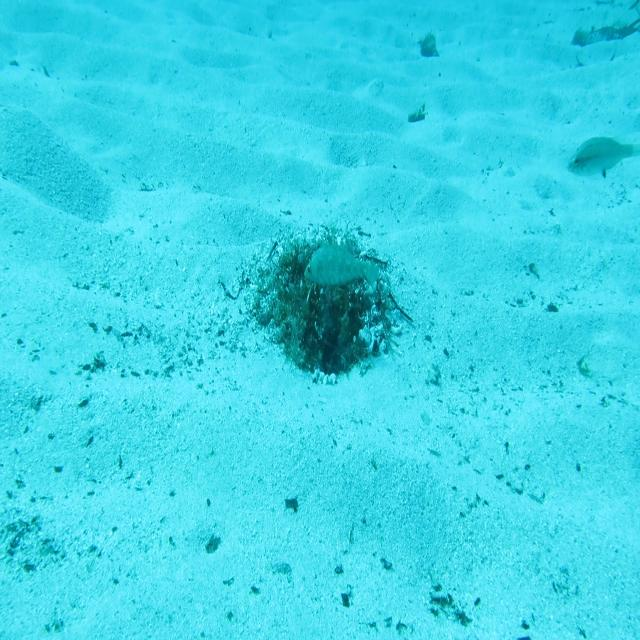INSF: (303, 239, 381, 293)
core_nest: (291, 245, 347, 289)
female: (564, 134, 640, 179)
nest: (240, 216, 406, 391)
vegetation: (570, 15, 640, 49), (416, 31, 441, 61), (406, 99, 428, 126)
